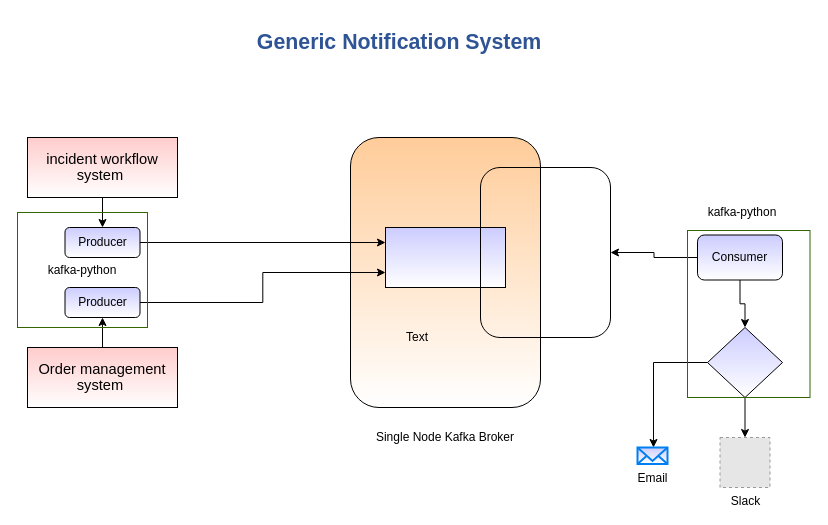
The diagram is 828 pixels wide and 525 high, and some of its shapes have lost their labels. Grey dashed boxes stand in for pictures. Here are the shapes that lost their labels. From the top down, the centre of each, then its label:
At pixel 445 257: "Topic".
At pixel 545 252: "Topic Group for Offset".
At pixel 744 362: "Alert Services".
